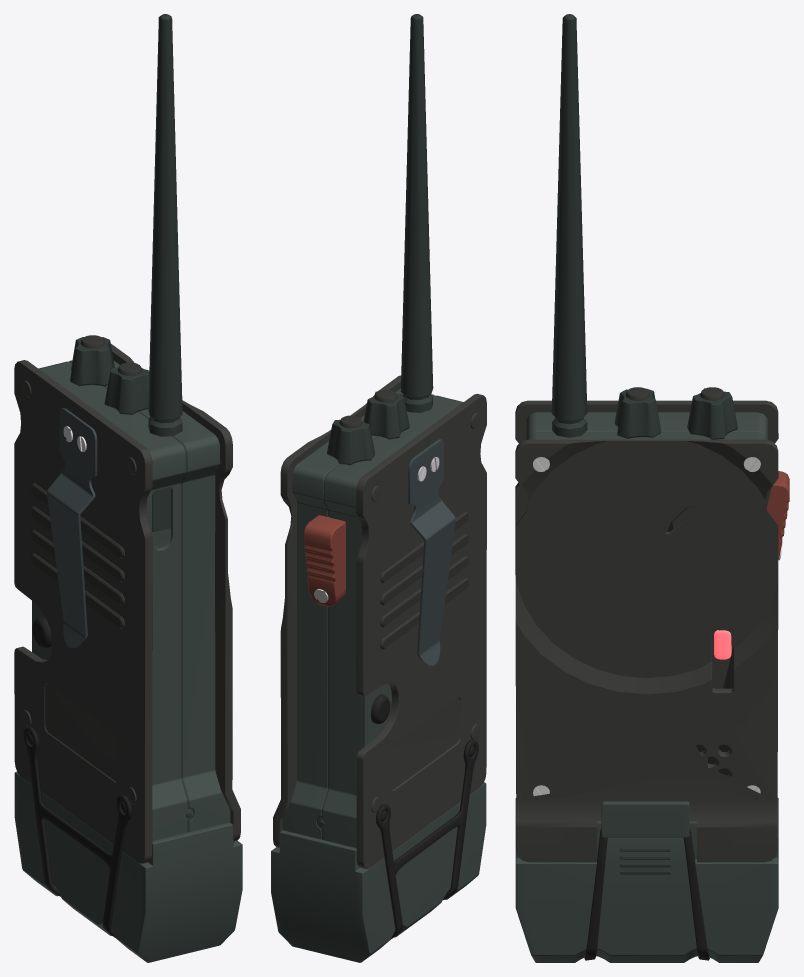
Rendered from Rad.fbx.
The picture shows the model from 3 angles, left to right: view 1: azimuth 30°, elevation 25°; view 2: azimuth 150°, elevation 25°; view 3: azimuth 270°, elevation 25°; orthographic projection. The views are drawn at different scales.
Visible parts, largest first — view 1: Rad; view 2: Rad; view 3: Rad.
Boxes of the visible parts, x1,y1,x2,y2 form: Rad: (14,14,242,962); Rad: (271,14,486,962); Rad: (515,14,789,962).
Bounding box in the file's own units: 87.1 × 643 × 172.
